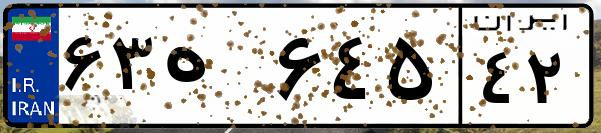2: (525, 38, 570, 115)
3: (110, 28, 158, 98)
4: (330, 28, 385, 110), (475, 38, 525, 113)
5: (385, 28, 445, 110)
6: (270, 28, 330, 110), (57, 26, 110, 100)
ه: (158, 20, 270, 120)
